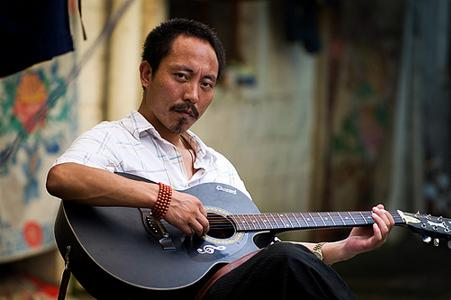person: (44, 19, 395, 300)
